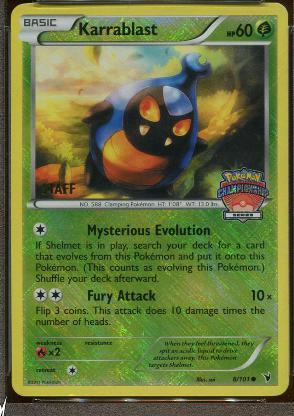Card: (9, 3, 289, 398)
